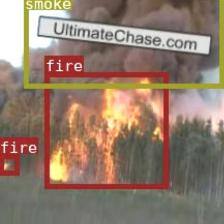fire: (44, 72, 168, 187), (0, 153, 19, 174)
smoke: (23, 0, 224, 87)
